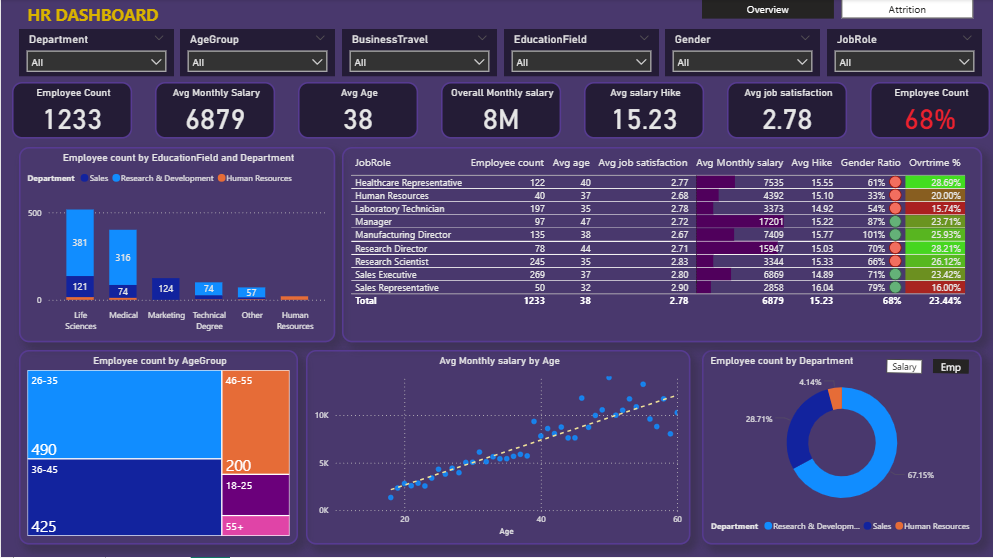

This screenshot's page, from the dashboard's own definition file:
{"tool":"powerbi","page":{"name":"Overview","canvas":[1280,720],"ordinal":0},"visuals":[{"type":"slicer","fields":{"Values":["HR_Analytics.Department"]},"box":[22.7,38.3,199.8,60.9],"z":0},{"type":"slicer","fields":{"Values":["HR_Analytics.AgeGroup"]},"box":[231.3,38.7,200,60.9],"z":1000},{"type":"slicer","fields":{"Values":["HR_Analytics.BusinessTravel"]},"box":[439.9,38.7,200,60.9],"z":2000},{"type":"slicer","fields":{"Values":["HR_Analytics.EducationField"]},"box":[648.6,38.7,200,60.9],"z":3000},{"type":"slicer","fields":{"Values":["HR_Analytics.Gender"]},"box":[857.2,38.7,200,60.9],"z":4000},{"type":"slicer","fields":{"Values":["HR_Analytics.JobRole"]},"box":[1065.8,38.7,200,60.9],"z":5000},{"type":"card","title":"Employee Count","fields":{"Values":["HR_Analytics.Employee count"]},"box":[14.2,107.7,155,73],"z":6000},{"type":"card","title":"Avg Monthly Salary","fields":{"Values":["HR_Analytics.Avg Monthly salary"]},"box":[198.8,107.7,155,73],"z":7000},{"type":"card","title":"Avg Age","fields":{"Values":["HR_Analytics.Average age"]},"box":[383.3,107.7,155,73],"z":8000},{"type":"card","title":"Overall Monthly salary","fields":{"Values":["HR_Analytics.Overall monthly salary"]},"box":[567.9,107.7,155,73],"z":9000},{"type":"card","title":"Avg salary Hike","fields":{"Values":["HR_Analytics.Average Hike"]},"box":[752.5,107.7,155,73],"z":10000},{"type":"card","title":"Avg job satisfaction ","fields":{"Values":["HR_Analytics.average job satisfaction_score"]},"box":[937.1,107.7,155,73],"z":11000},{"type":"card","title":"Employee Count","fields":{"Values":["HR_Analytics.Gender Ratio"]},"box":[1121.7,107.7,155,73],"z":12000},{"type":"columnChart","fields":{"Category":["HR_Analytics.EducationField"],"Y":["HR_Analytics.Employee count"],"Series":["HR_Analytics.Department"]},"box":[22.7,191.3,408.2,252.3],"z":13000},{"type":"treemap","fields":{"Group":["HR_Analytics.AgeGroup"],"Values":["HR_Analytics.Employee count"]},"box":[22.7,453.5,360,250.9],"z":14000},{"type":"donutChart","fields":{"Y":["HR_Analytics.Employee count"],"Category":["HR_Analytics.Department"]},"box":[904.3,453.5,361.4,250.9],"z":15000},{"type":"tableEx","fields":{"Values":["HR_Analytics.JobRole","HR_Analytics.Employee count","HR_Analytics.Average age","HR_Analytics.average job satisfaction_score","HR_Analytics.Avg Monthly salary","HR_Analytics.Average Hike","HR_Analytics.Gender Ratio","HR_Analytics.Overtrime %"]},"box":[439.4,191.3,826.3,252.3],"z":16000},{"type":"scatterChart","fields":{"X":["HR_Analytics.Age"],"Y":["HR_Analytics.Avg Monthly salary"]},"box":[394,453.5,496.1,250.9],"z":17000},{"type":"pageNavigator","box":[904.3,0,350,25.7],"z":18000},{"type":"bookmarkNavigator","box":[1140.1,464.4,111.6,19.3],"z":20000},{"type":"textbox","box":[14.2,0,208.3,46.8],"z":21000}]}

Visuals, with their boxes in screenshot pixels (x1, y1, x2, y2), scaled from the page's 1280x720 canvas onto the 993x558 screenshot:
slicer - HR_Analytics.Department: {"x1": 18, "y1": 30, "x2": 173, "y2": 77}
slicer - HR_Analytics.AgeGroup: {"x1": 179, "y1": 30, "x2": 335, "y2": 77}
slicer - HR_Analytics.BusinessTravel: {"x1": 341, "y1": 30, "x2": 496, "y2": 77}
slicer - HR_Analytics.EducationField: {"x1": 503, "y1": 30, "x2": 658, "y2": 77}
slicer - HR_Analytics.Gender: {"x1": 665, "y1": 30, "x2": 820, "y2": 77}
slicer - HR_Analytics.JobRole: {"x1": 827, "y1": 30, "x2": 982, "y2": 77}
"Employee Count" card: {"x1": 11, "y1": 83, "x2": 131, "y2": 140}
"Avg Monthly Salary" card: {"x1": 154, "y1": 83, "x2": 274, "y2": 140}
"Avg Age" card: {"x1": 297, "y1": 83, "x2": 418, "y2": 140}
"Overall Monthly salary" card: {"x1": 441, "y1": 83, "x2": 561, "y2": 140}
"Avg salary Hike" card: {"x1": 584, "y1": 83, "x2": 704, "y2": 140}
"Avg job satisfaction " card: {"x1": 727, "y1": 83, "x2": 847, "y2": 140}
"Employee Count" card: {"x1": 870, "y1": 83, "x2": 990, "y2": 140}
columnChart - HR_Analytics.EducationField x HR_Analytics.Employee count: {"x1": 18, "y1": 148, "x2": 334, "y2": 344}
treemap - HR_Analytics.AgeGroup x HR_Analytics.Employee count: {"x1": 18, "y1": 351, "x2": 297, "y2": 546}
donutChart - HR_Analytics.Employee count x HR_Analytics.Department: {"x1": 702, "y1": 351, "x2": 982, "y2": 546}
tableEx - HR_Analytics.JobRole x HR_Analytics.Employee count: {"x1": 341, "y1": 148, "x2": 982, "y2": 344}
scatterChart - HR_Analytics.Age x HR_Analytics.Avg Monthly salary: {"x1": 306, "y1": 351, "x2": 691, "y2": 546}
pageNavigator: {"x1": 702, "y1": 0, "x2": 973, "y2": 20}
bookmarkNavigator: {"x1": 884, "y1": 360, "x2": 971, "y2": 375}
textbox: {"x1": 11, "y1": 0, "x2": 173, "y2": 36}
